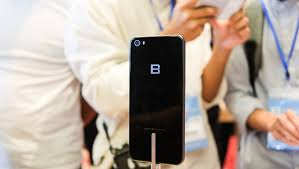bphone: (124, 34, 189, 166)
